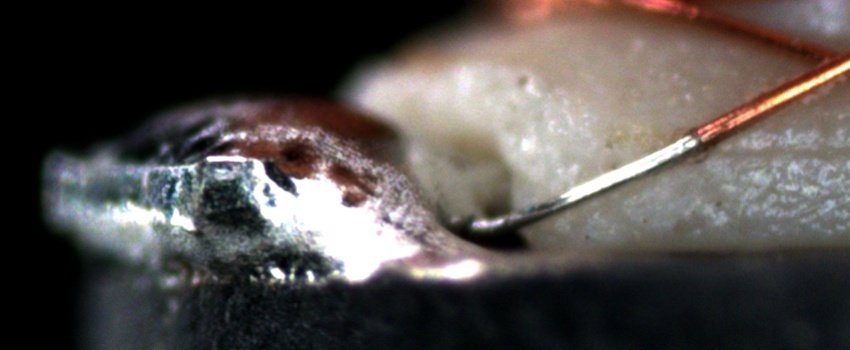CL: (796, 30, 847, 90)
DL: (706, 122, 849, 178)
TS: (467, 133, 703, 232)
